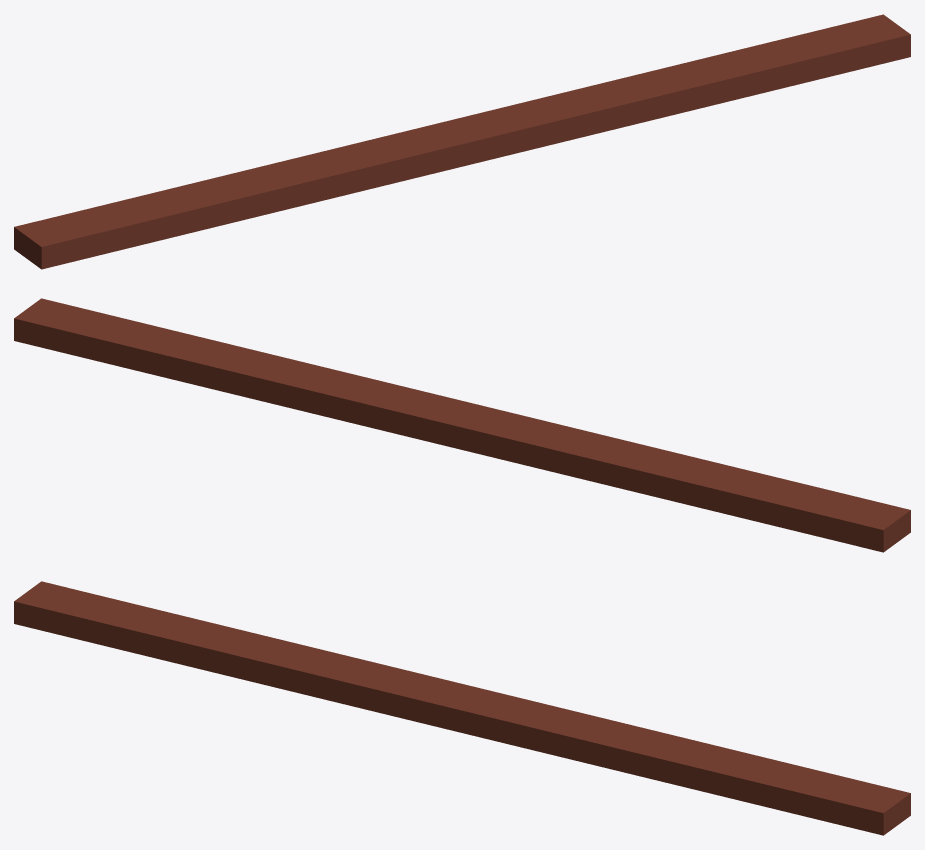
File: lib_rightside_edge.fbx
3 renders of one model, top to bottom at view 1: azimuth 30°, elevation 25°; view 2: azimuth 150°, elevation 25°; view 3: azimuth 330°, elevation 25°, orthographic.
Parts seen in each view (by area): view 1: Plane.002; view 2: Plane.002; view 3: Plane.002.
Boxes of the visible parts, box(x1,y1,x2,y2) form: Plane.002: box(14, 14, 910, 269); Plane.002: box(14, 298, 910, 552); Plane.002: box(14, 581, 910, 835).
Bounding box in the file's own units: 9671 × 240 × 538.
